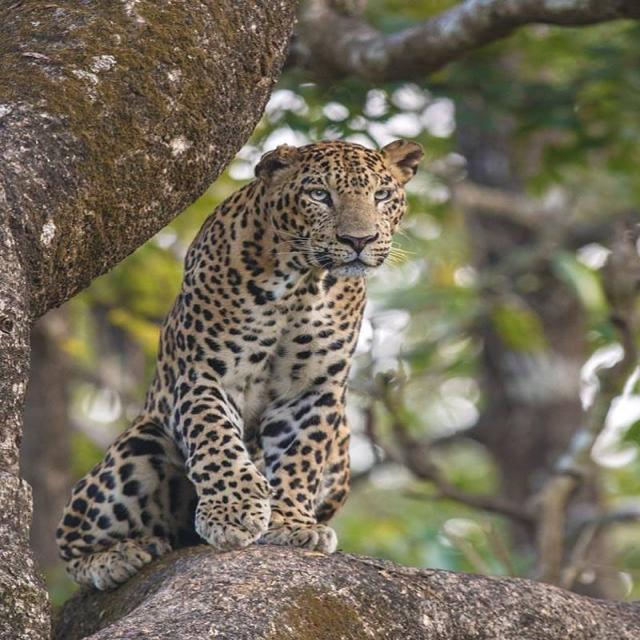Leopard: (59, 140, 424, 592)
